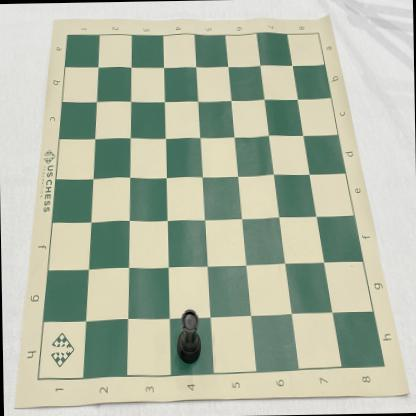rook: (174, 308, 202, 364)
